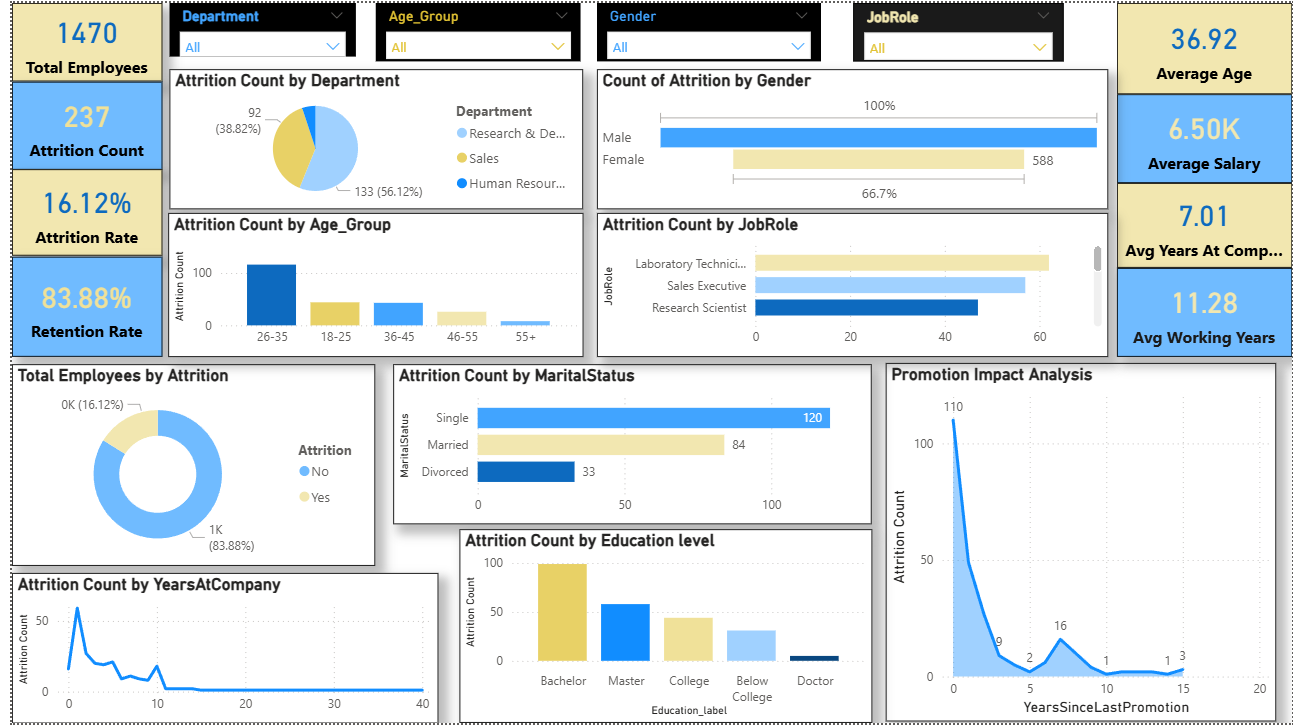

The page's visual inventory and layout, read from the dashboard file:
{"tool":"powerbi","page":{"name":"Risk Analysis","canvas":[1280,720],"ordinal":0},"visuals":[{"type":"card","fields":{"Values":["Measures (3).Total Employees"]},"box":[0,0,150,78.8],"z":0},{"type":"card","fields":{"Values":["Measures (3).Attrition Count"]},"box":[0,78.3,150,88.3],"z":1},{"type":"card","fields":{"Values":["Measures (3).Attrition Rate"]},"box":[0,166.7,150,86.7],"z":2},{"type":"card","fields":{"Values":["Measures (3).Retention Rate"]},"box":[0,253.3,150,100],"z":3},{"type":"card","fields":{"Values":["Measures (3).Average Salary"]},"box":[1105,91.2,175,88.8],"z":4},{"type":"card","fields":{"Values":["Measures (3).Average Age"]},"box":[1105,0,175,91.2],"z":5},{"type":"donutChart","fields":{"Y":["Measures (3).Total Employees"],"Category":["IBM EMPLOYEE ATTRITION.Attrition"]},"box":[0,361.7,363.3,201.7],"z":6},{"type":"pieChart","fields":{"Category":["IBM EMPLOYEE ATTRITION.Department"],"Y":["Measures (3).Attrition Count"]},"box":[157.5,66.2,413.8,140],"z":7},{"type":"slicer","fields":{"Values":["IBM EMPLOYEE ATTRITION.JobRole"]},"box":[841.2,0,210,58.8],"z":8},{"type":"funnel","fields":{"Category":["IBM EMPLOYEE ATTRITION.Gender"],"Y":["CountNonNull(IBM EMPLOYEE ATTRITION.Attrition)"]},"box":[585,66.2,511.2,140],"z":9},{"type":"slicer","fields":{"Values":["IBM EMPLOYEE ATTRITION.Department"]},"box":[157.5,0,186.2,53.8],"z":10},{"type":"slicer","fields":{"Values":["IBM EMPLOYEE ATTRITION.Gender"]},"box":[585,0,223.8,58.8],"z":11},{"type":"slicer","fields":{"Values":["IBM EMPLOYEE ATTRITION.Age_Group"]},"box":[363.8,0,205,58.8],"z":12},{"type":"card","fields":{"Values":["Measures (3).Avg Years At Company"]},"box":[1105,180,175,85],"z":13},{"type":"clusteredColumnChart","fields":{"Category":["IBM EMPLOYEE ATTRITION.Age_Group"],"Y":["Measures (3).Attrition Count"]},"box":[156.2,210,415,143.8],"z":14},{"type":"areaChart","title":"Promotion Impact Analysis","fields":{"Category":["IBM EMPLOYEE ATTRITION.YearsSinceLastPromotion"],"Y":["Measures (3).Attrition Count"]},"box":[873.8,360,390,358.8],"z":15},{"type":"lineChart","fields":{"Y":["Measures (3).Attrition Count"],"Category":["IBM EMPLOYEE ATTRITION.YearsAtCompany"]},"box":[0,570,426.7,150],"z":16},{"type":"clusteredBarChart","fields":{"Category":["IBM EMPLOYEE ATTRITION.MaritalStatus"],"Y":["Measures (3).Attrition Count"]},"box":[381.2,361.2,478.8,160],"z":18},{"type":"barChart","fields":{"Category":["IBM EMPLOYEE ATTRITION.JobRole"],"Y":["Measures (3).Attrition Count"]},"box":[585,210,511.2,143.8],"z":19},{"type":"clusteredColumnChart","title":"Attrition Count by Education level","fields":{"Y":["Measures (3).Attrition Count"],"Category":["IBM EMPLOYEE ATTRITION.Education_label"]},"box":[447.5,526.2,412.5,193.8],"z":20},{"type":"card","fields":{"Values":["Measures (3).Avg Working Years"]},"box":[1105,265,175,88.8],"z":21}]}

Visuals, with their boxes in screenshot pixels (x1, y1, x2, y2), scaled from the page's 1280x720 canvas onto the 1293x726 screenshot:
card - Measures (3).Total Employees: x1=0, y1=0, x2=152, y2=79
card - Measures (3).Attrition Count: x1=0, y1=79, x2=152, y2=168
card - Measures (3).Attrition Rate: x1=0, y1=168, x2=152, y2=256
card - Measures (3).Retention Rate: x1=0, y1=255, x2=152, y2=356
card - Measures (3).Average Salary: x1=1116, y1=92, x2=1292, y2=182
card - Measures (3).Average Age: x1=1116, y1=0, x2=1292, y2=92
donutChart - Measures (3).Total Employees x IBM EMPLOYEE ATTRITION.Attrition: x1=0, y1=365, x2=367, y2=568
pieChart - IBM EMPLOYEE ATTRITION.Department x Measures (3).Attrition Count: x1=159, y1=67, x2=577, y2=208
slicer - IBM EMPLOYEE ATTRITION.JobRole: x1=850, y1=0, x2=1062, y2=59
funnel - IBM EMPLOYEE ATTRITION.Gender x CountNonNull(IBM EMPLOYEE ATTRITION.Attrition): x1=591, y1=67, x2=1107, y2=208
slicer - IBM EMPLOYEE ATTRITION.Department: x1=159, y1=0, x2=347, y2=54
slicer - IBM EMPLOYEE ATTRITION.Gender: x1=591, y1=0, x2=817, y2=59
slicer - IBM EMPLOYEE ATTRITION.Age_Group: x1=367, y1=0, x2=575, y2=59
card - Measures (3).Avg Years At Company: x1=1116, y1=182, x2=1292, y2=267
clusteredColumnChart - IBM EMPLOYEE ATTRITION.Age_Group x Measures (3).Attrition Count: x1=158, y1=212, x2=577, y2=357
"Promotion Impact Analysis" areaChart: x1=883, y1=363, x2=1277, y2=725
lineChart - Measures (3).Attrition Count x IBM EMPLOYEE ATTRITION.YearsAtCompany: x1=0, y1=575, x2=431, y2=725
clusteredBarChart - IBM EMPLOYEE ATTRITION.MaritalStatus x Measures (3).Attrition Count: x1=385, y1=364, x2=869, y2=526
barChart - IBM EMPLOYEE ATTRITION.JobRole x Measures (3).Attrition Count: x1=591, y1=212, x2=1107, y2=357
"Attrition Count by Education level" clusteredColumnChart: x1=452, y1=531, x2=869, y2=725
card - Measures (3).Avg Working Years: x1=1116, y1=267, x2=1292, y2=357
